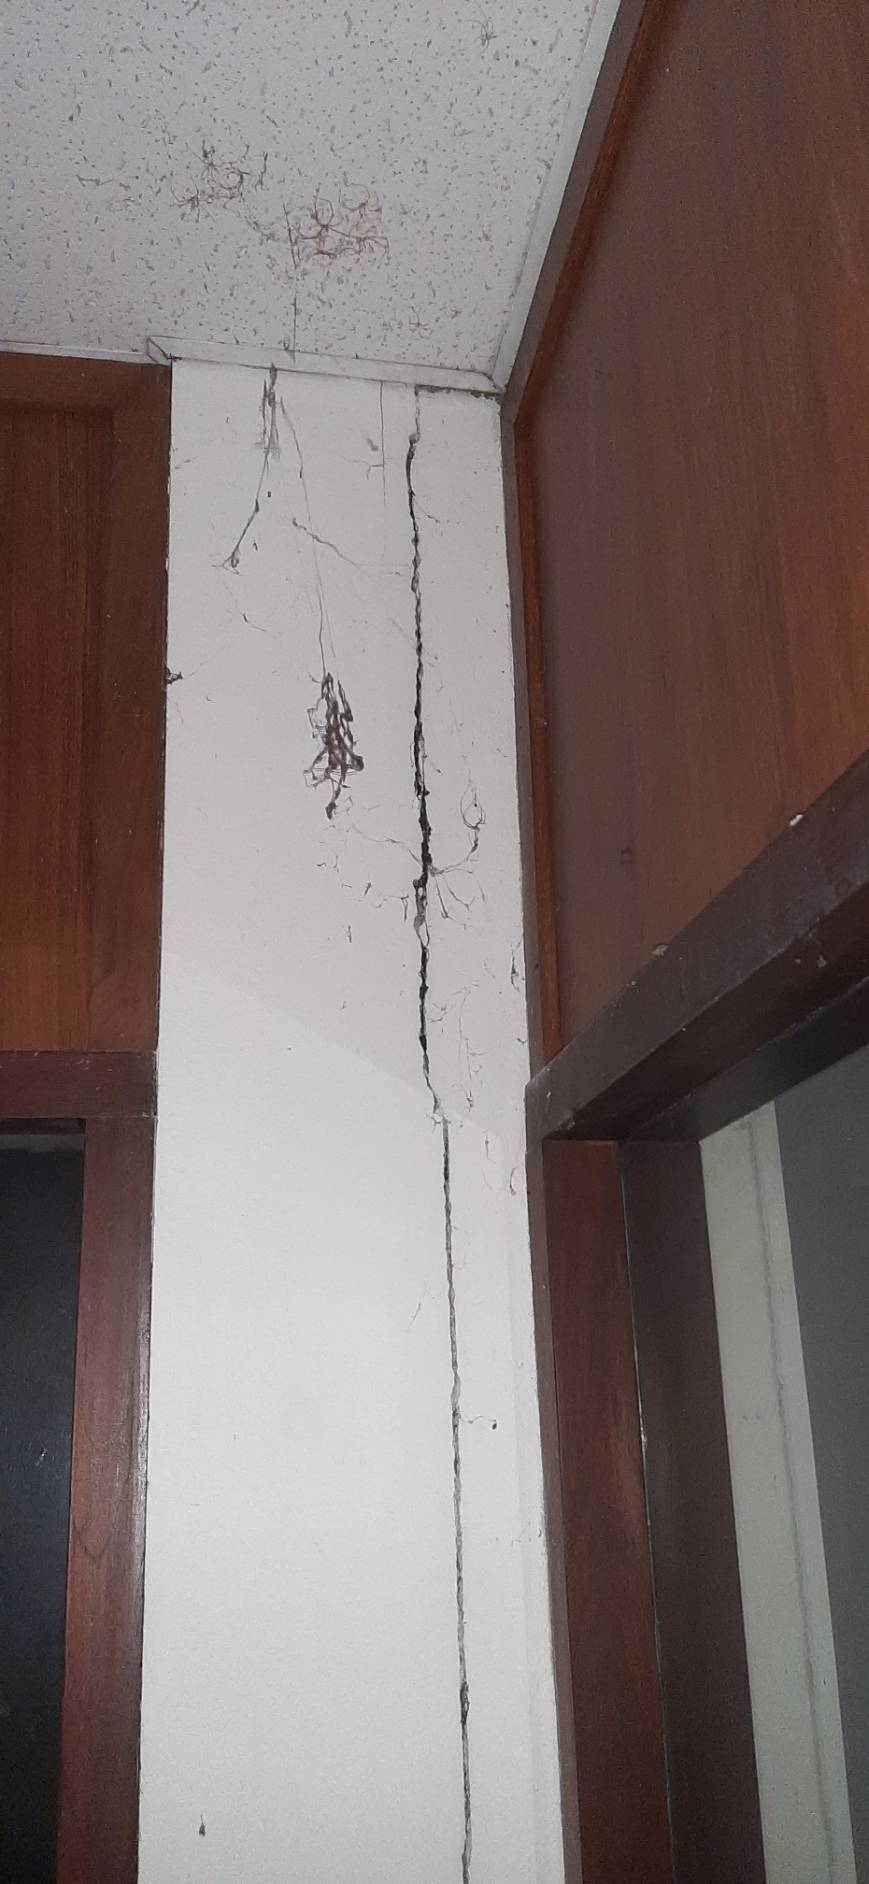High: (304, 374, 563, 1880)
